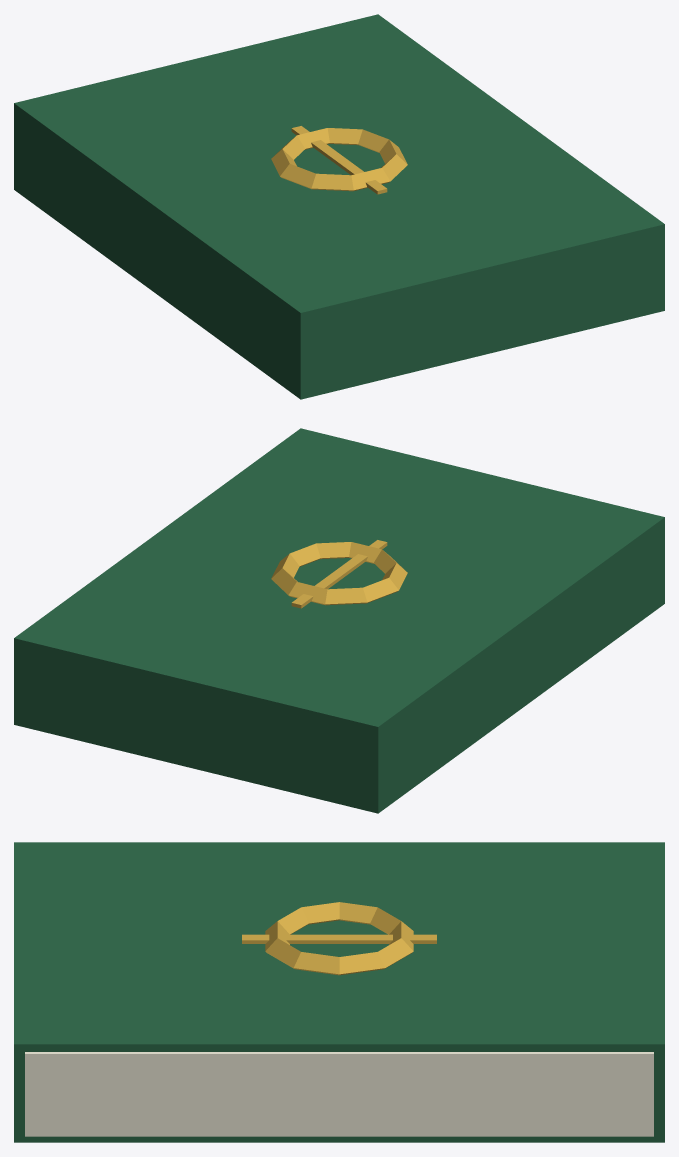
Rendered from account_book.glb.
3 renders of one model, top to bottom at view 1: azimuth 30°, elevation 25°; view 2: azimuth 150°, elevation 25°; view 3: azimuth 270°, elevation 25°, orthographic. The views are drawn at different scales.
Parts seen in each view (by area): view 1: cover_ledger_green, sign_ledger_gold (×2); view 2: cover_ledger_green, sign_ledger_gold (×2); view 3: cover_ledger_green, pages_ledger_pages, sign_ledger_gold (×2).
Part boxes in pixels (x1,y1,x2,y2): cover_ledger_green: (14, 14, 664, 399); sign_ledger_gold (×2): (271, 126, 407, 194); cover_ledger_green: (14, 428, 664, 813); sign_ledger_gold (×2): (271, 540, 407, 608); cover_ledger_green: (14, 842, 664, 1142); pages_ledger_pages: (25, 1052, 653, 1136); sign_ledger_gold (×2): (242, 902, 436, 975).
Bounding box in the file's own units: 0.222 × 0.057 × 0.3.
